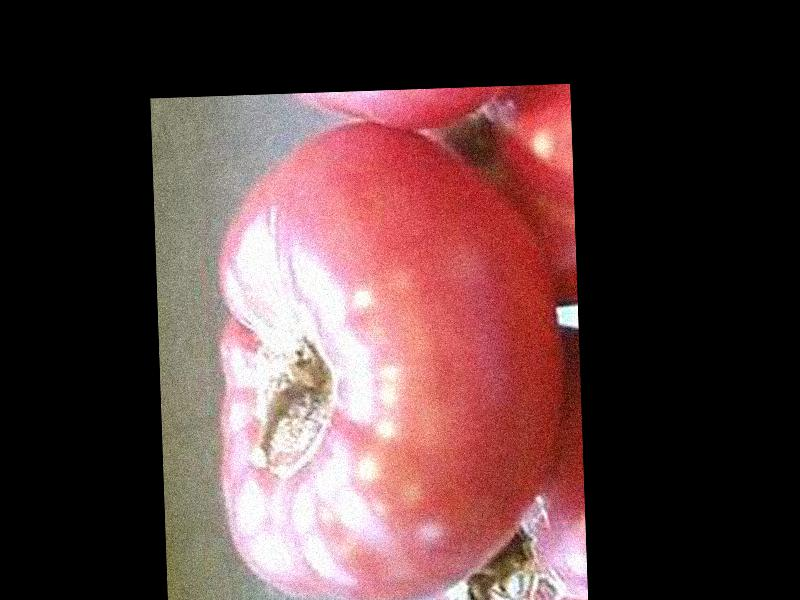Tomato: (208, 111, 569, 600)
